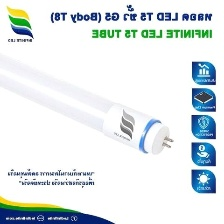light_bulb: (0, 42, 175, 157)
